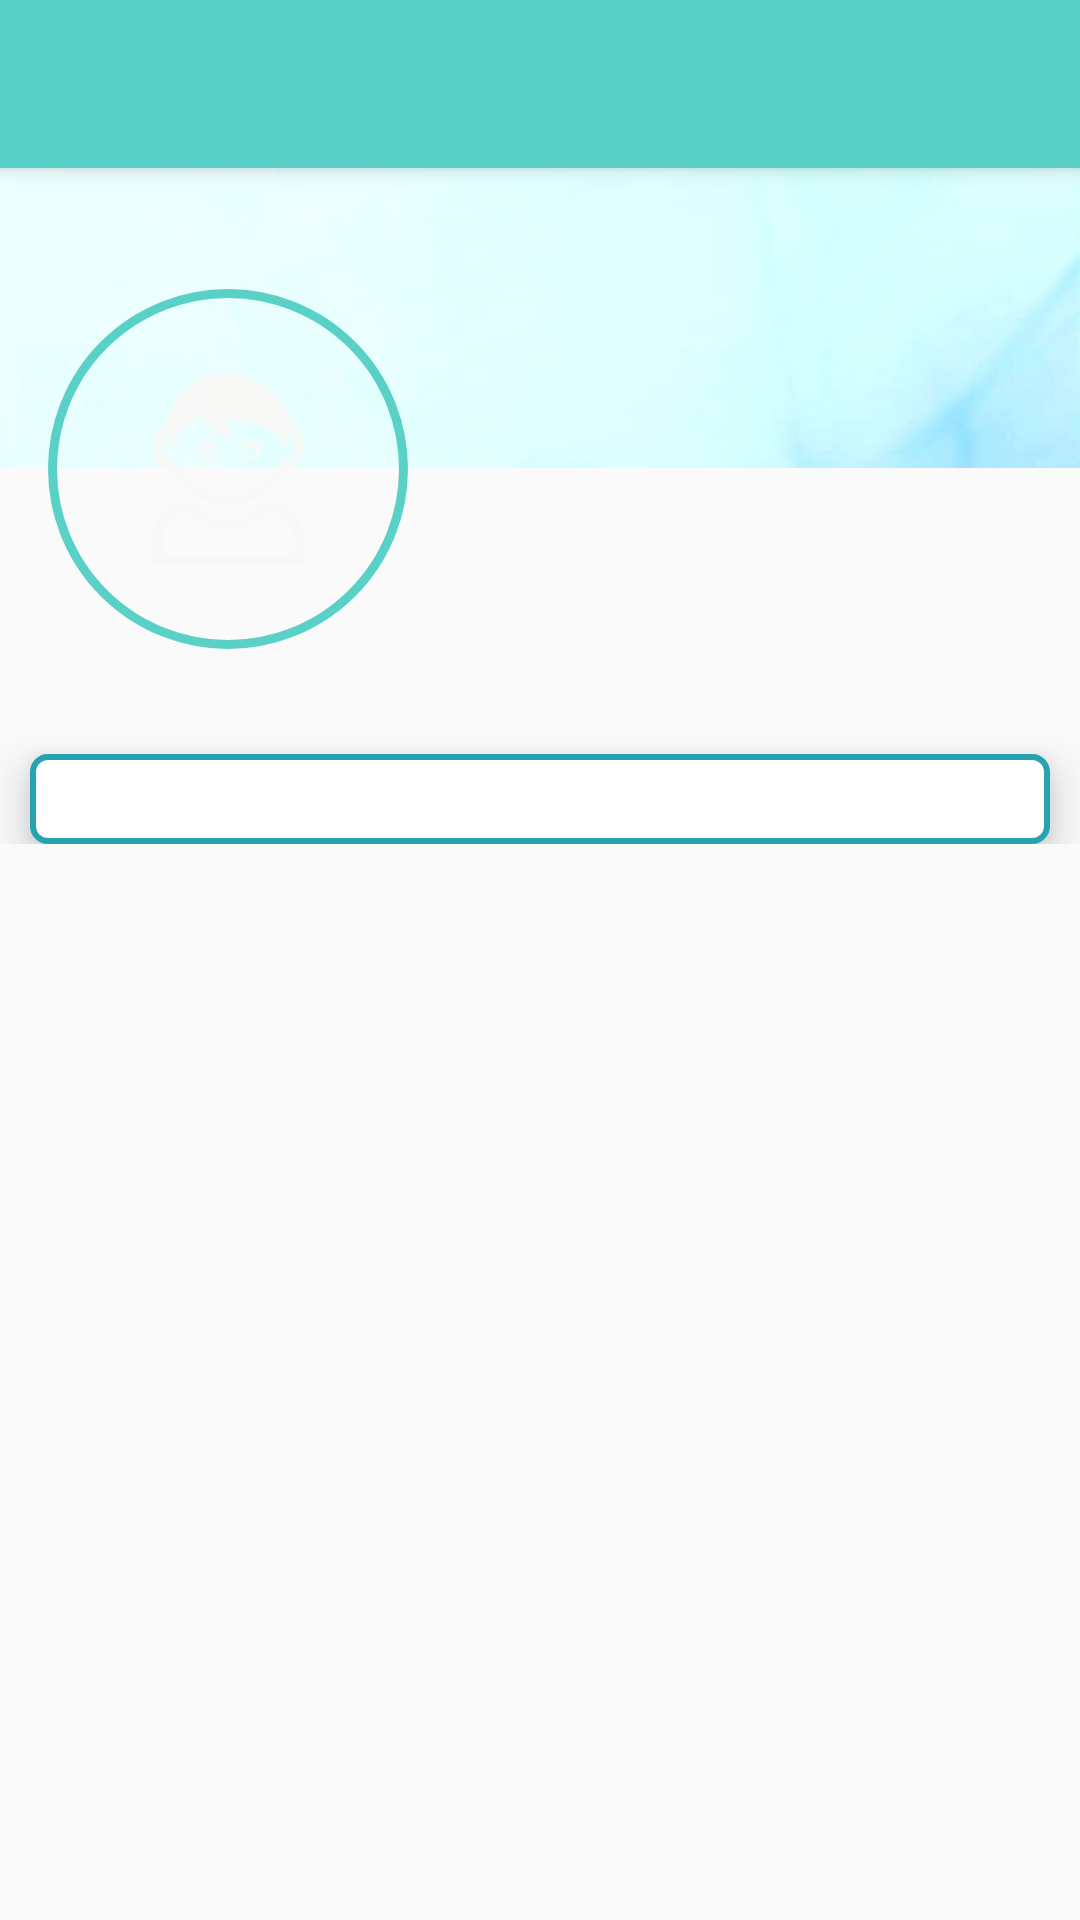

Named icons in this screenshot (1080px x 1920px) and their centers, (x,y):
profile: (228,469)
